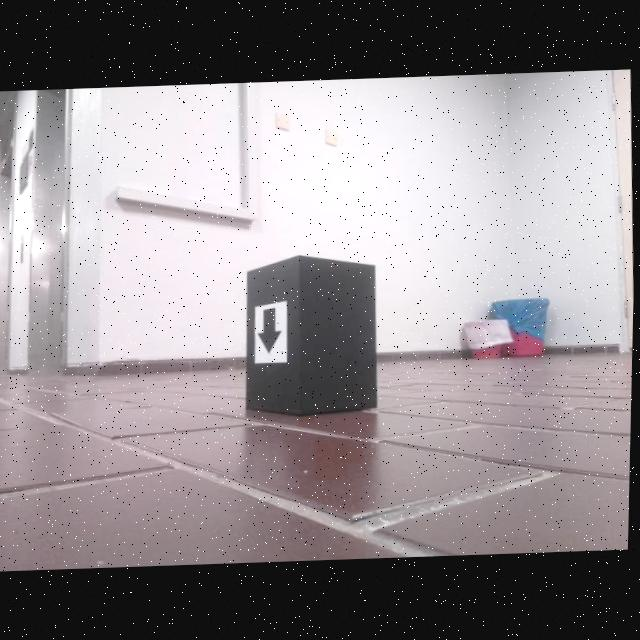DOWN: (258, 307, 284, 354)
